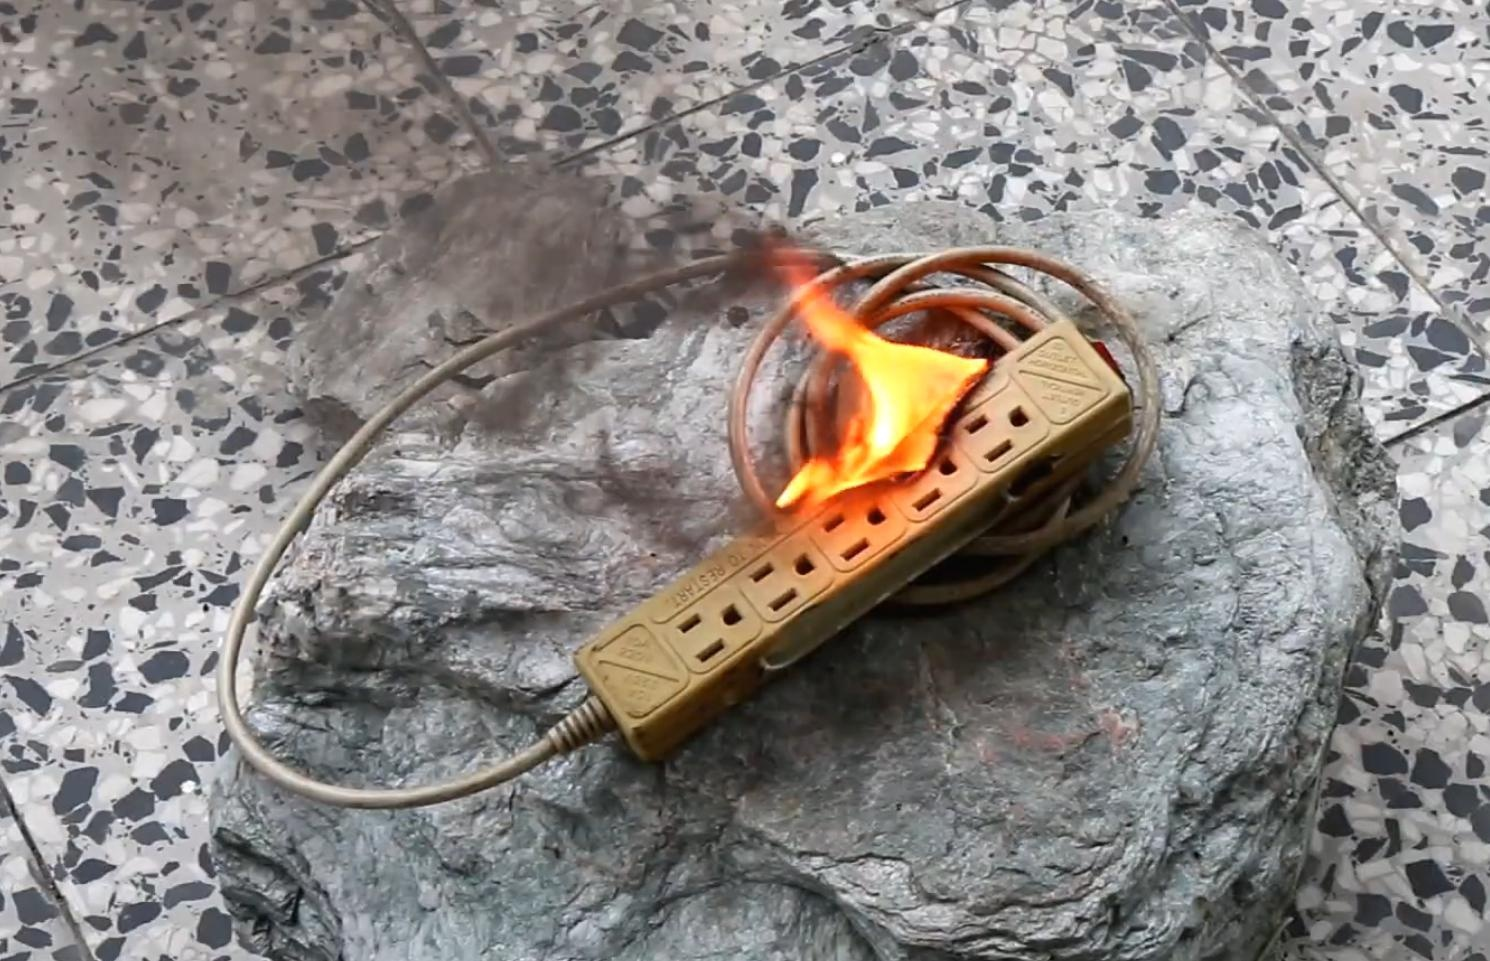fire: (757, 257, 984, 508)
